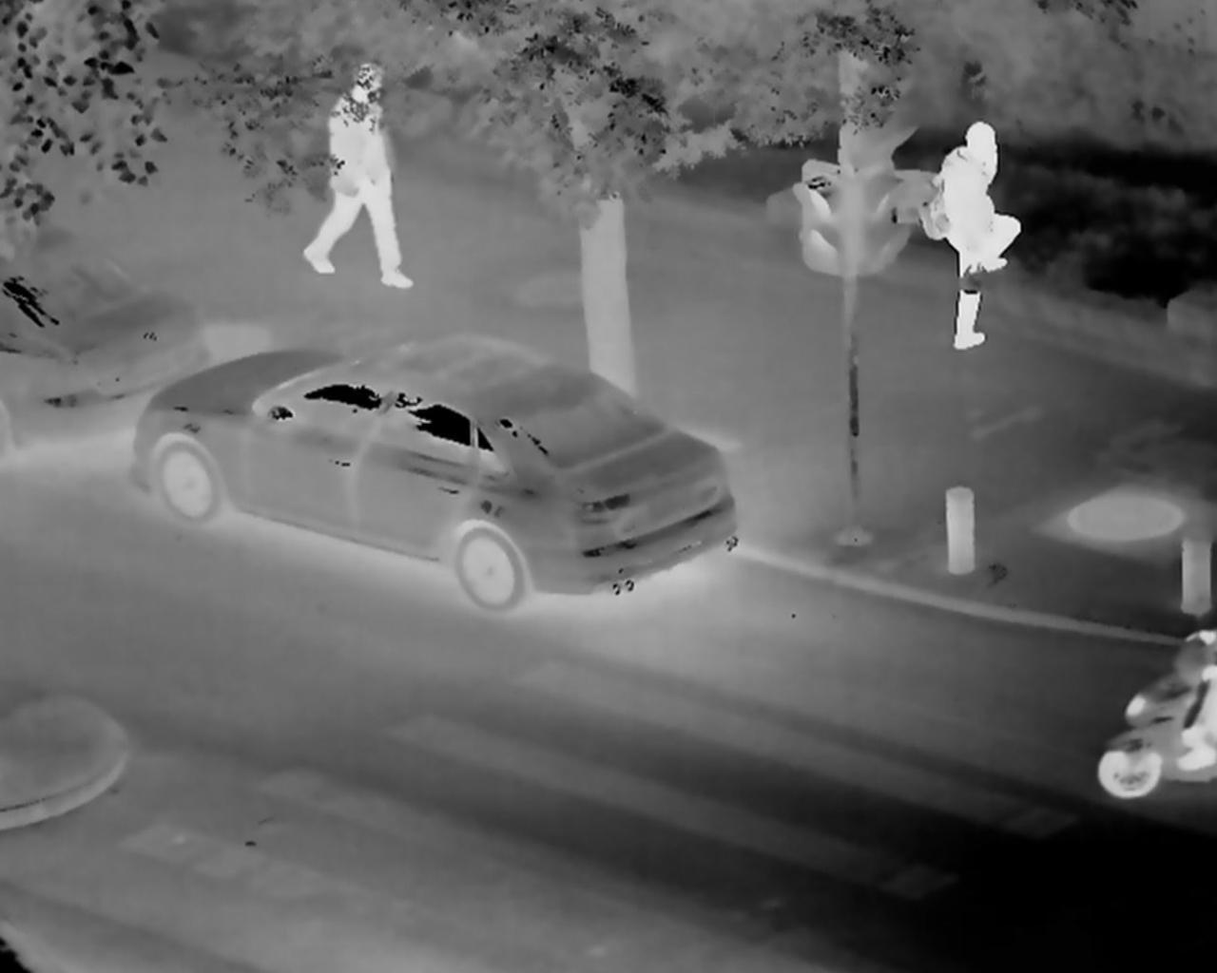person: (302, 56, 419, 299), (923, 118, 1024, 361)
